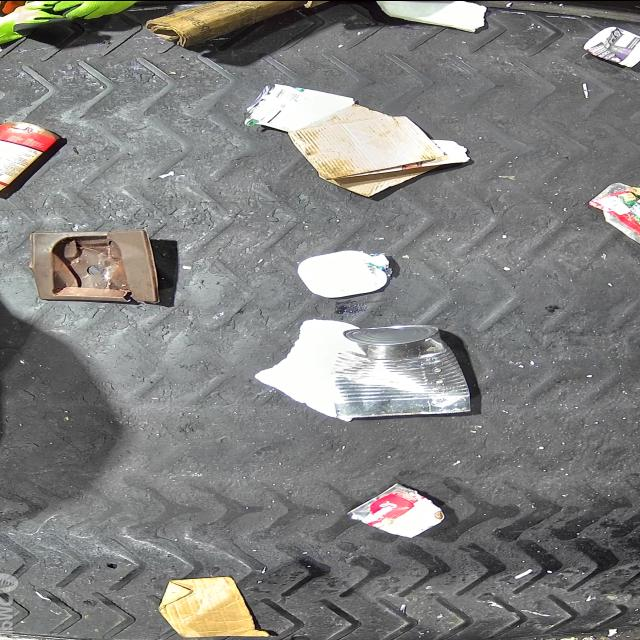can: (332, 323, 472, 418), (240, 82, 354, 132), (346, 482, 446, 538)
